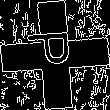P_E: (29, 35, 81, 75)
